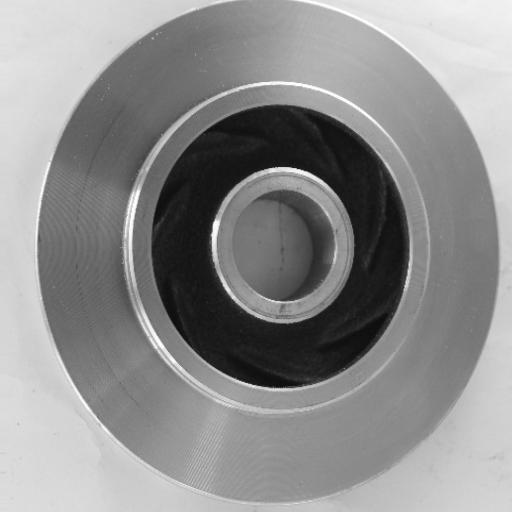polished_casting: (37, 0, 499, 503)
